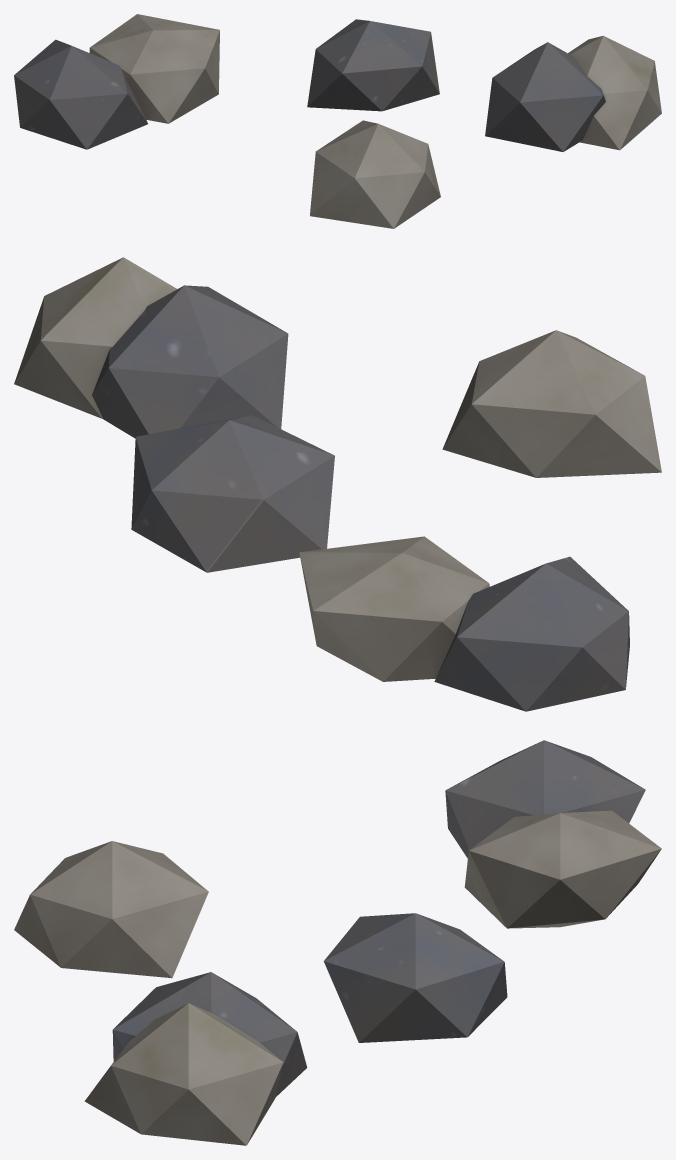
The model's file is jazida_silex.glb.
The picture shows the model from 3 angles, top to bottom: view 1: azimuth 30°, elevation 25°; view 2: azimuth 150°, elevation 25°; view 3: azimuth 270°, elevation 25°; orthographic projection. The views are drawn at different scales.
Parts seen in each view (by area): view 1: jazida_silex; view 2: jazida_silex; view 3: jazida_silex.
Part boxes in pixels (<box>): jazida_silex: <box>14,14,661,228</box>; jazida_silex: <box>14,257,661,711</box>; jazida_silex: <box>14,740,661,1145</box>.
Bounding box in the file's own units: 0.6234 × 0.1166 × 0.5014.
1 material, 1 textured.
